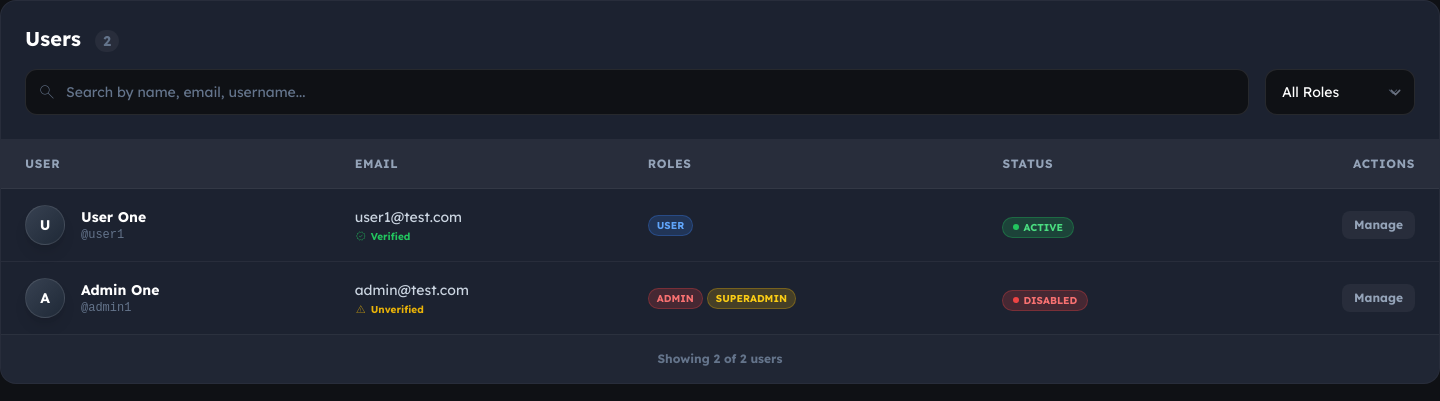
Test case: UserList › should filter users by role
Select "Super Admin" in the dropdown: {"x": 1340, "y": 92} [1265,69,1415,115]
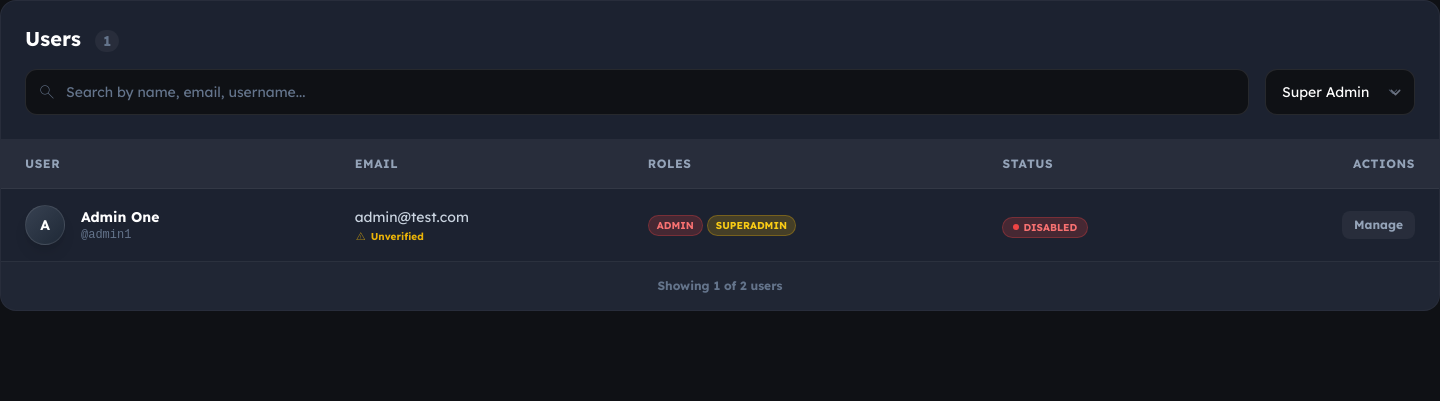
Expected: the text "User One" is gone
